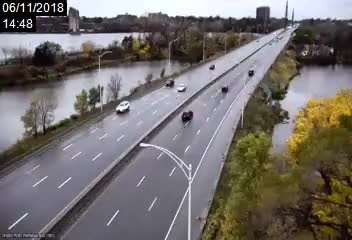personal_car: (114, 99, 131, 114), (179, 108, 195, 122), (219, 83, 230, 93), (177, 82, 186, 94), (164, 78, 176, 87), (208, 63, 215, 70)
